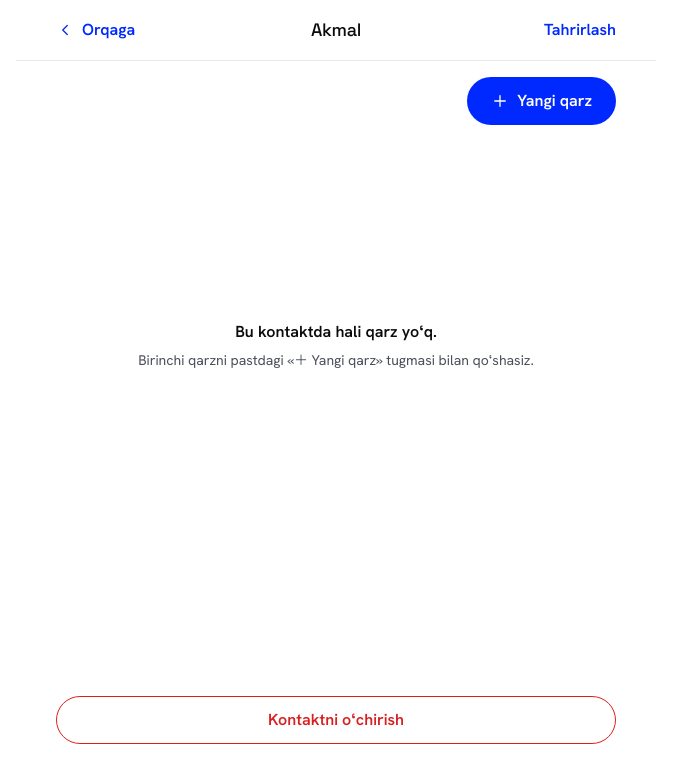
it: kontaktni tahrirlash (0060; mezon 23, 24, 25, 26) › `×` blokni yopadi
Step 1. Click the button "Tahrirlash" → (580, 30), box [544,8,616,52]
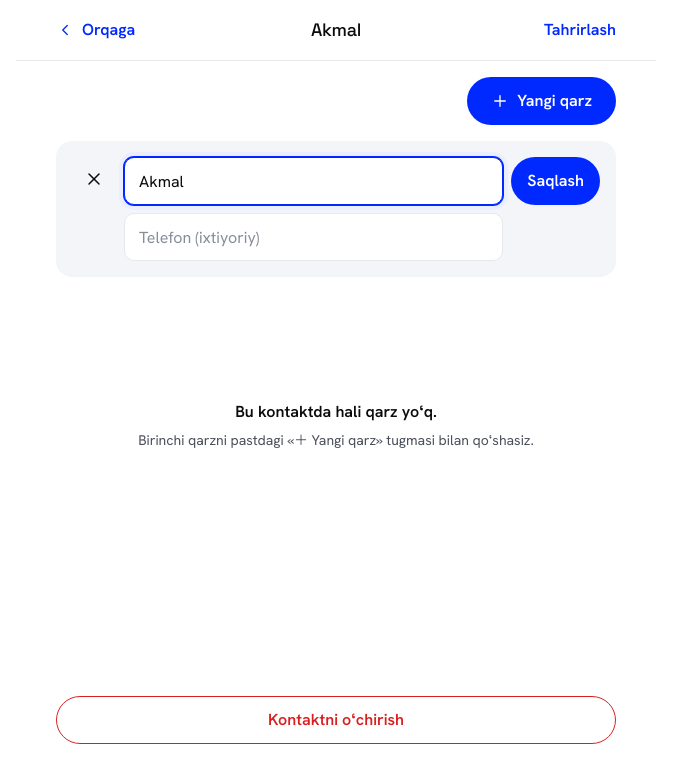
Step 2. Click the button named "Yopish" → (94, 179), box [72,157,116,201]
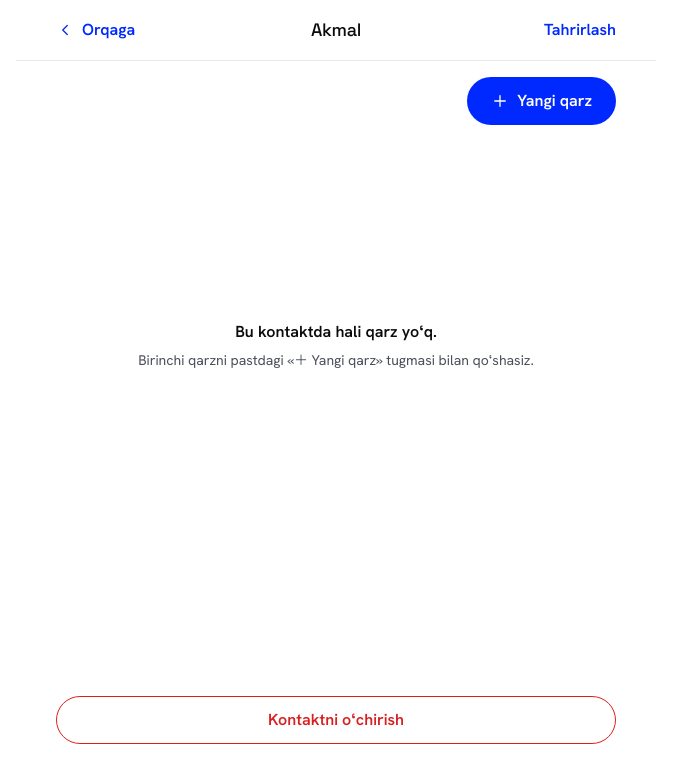
Now the field labelled "Ism" is gone
